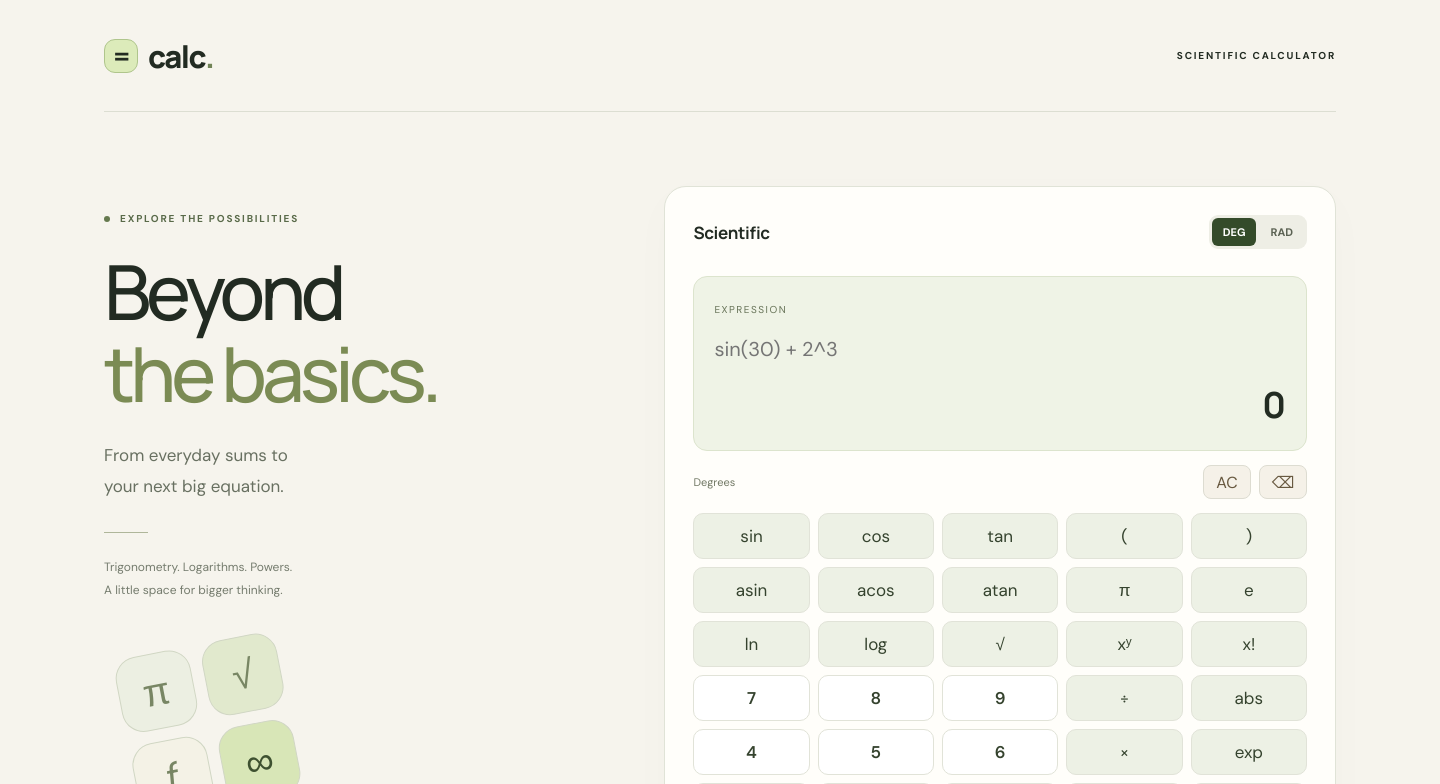
scientific calculator › shows errors and allows retry: {}
The width and height of the screenshot is (1440, 784).
Step 1. Type "1/0" into the field labelled "EXPRESSION" → (1000, 349), box [714,330,1286,368]
(page scrolled)
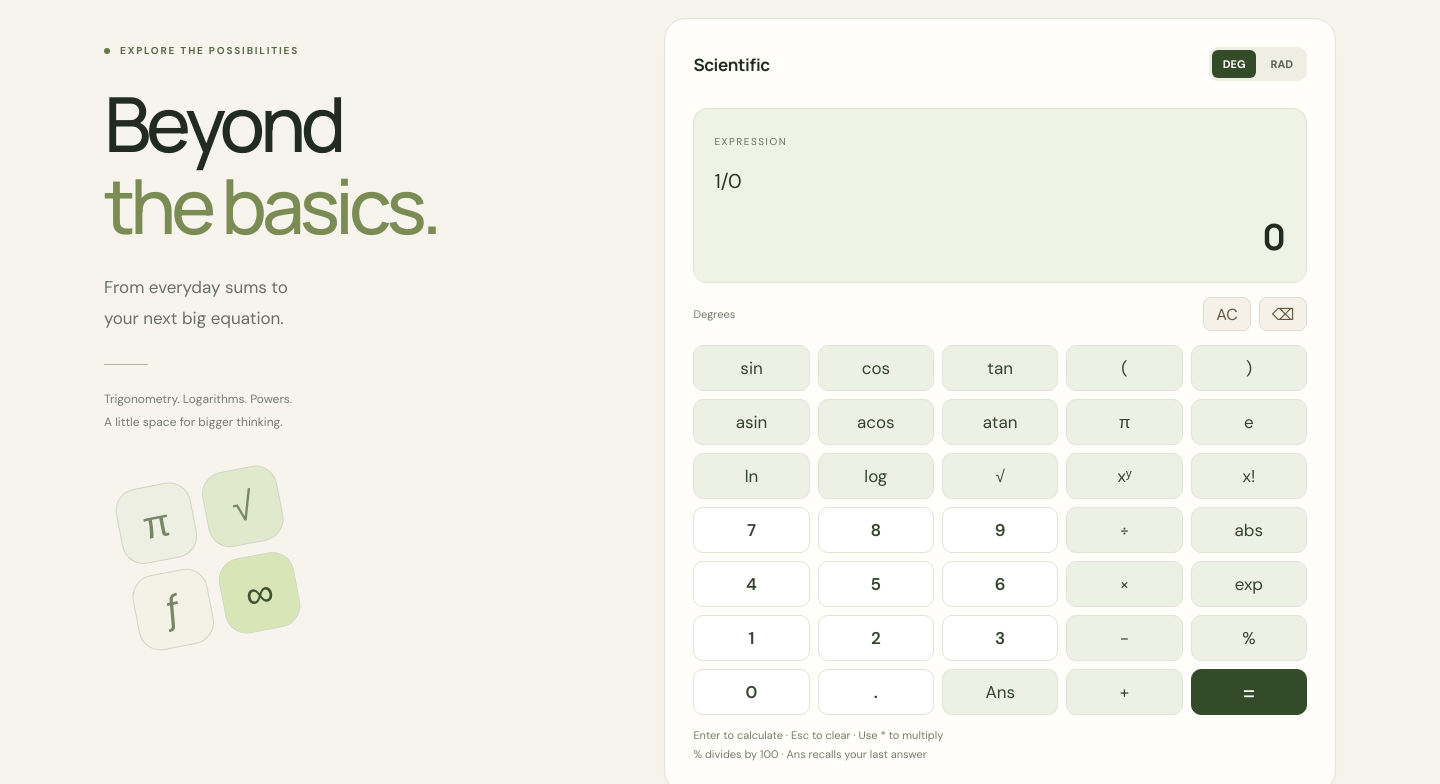
Step 2. Submit the form named "Calculate", box [693,47,1307,763]
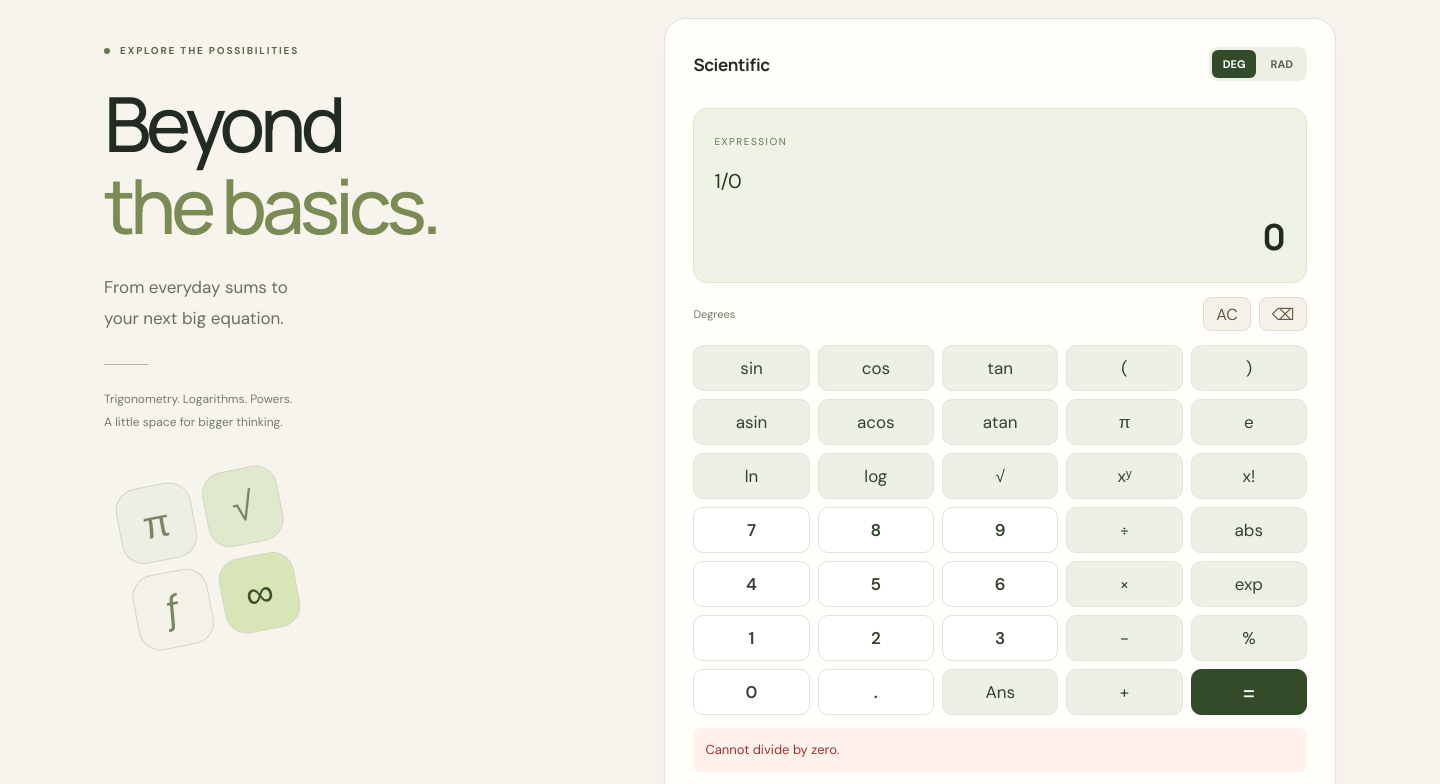
Check: the message "Cannot divide by zero." is shown, box [693,728,1307,772]
Step 3. Replace the text in the field labelled "EXPRESSION" with "1+1" → (1000, 181), box [714,162,1286,200]
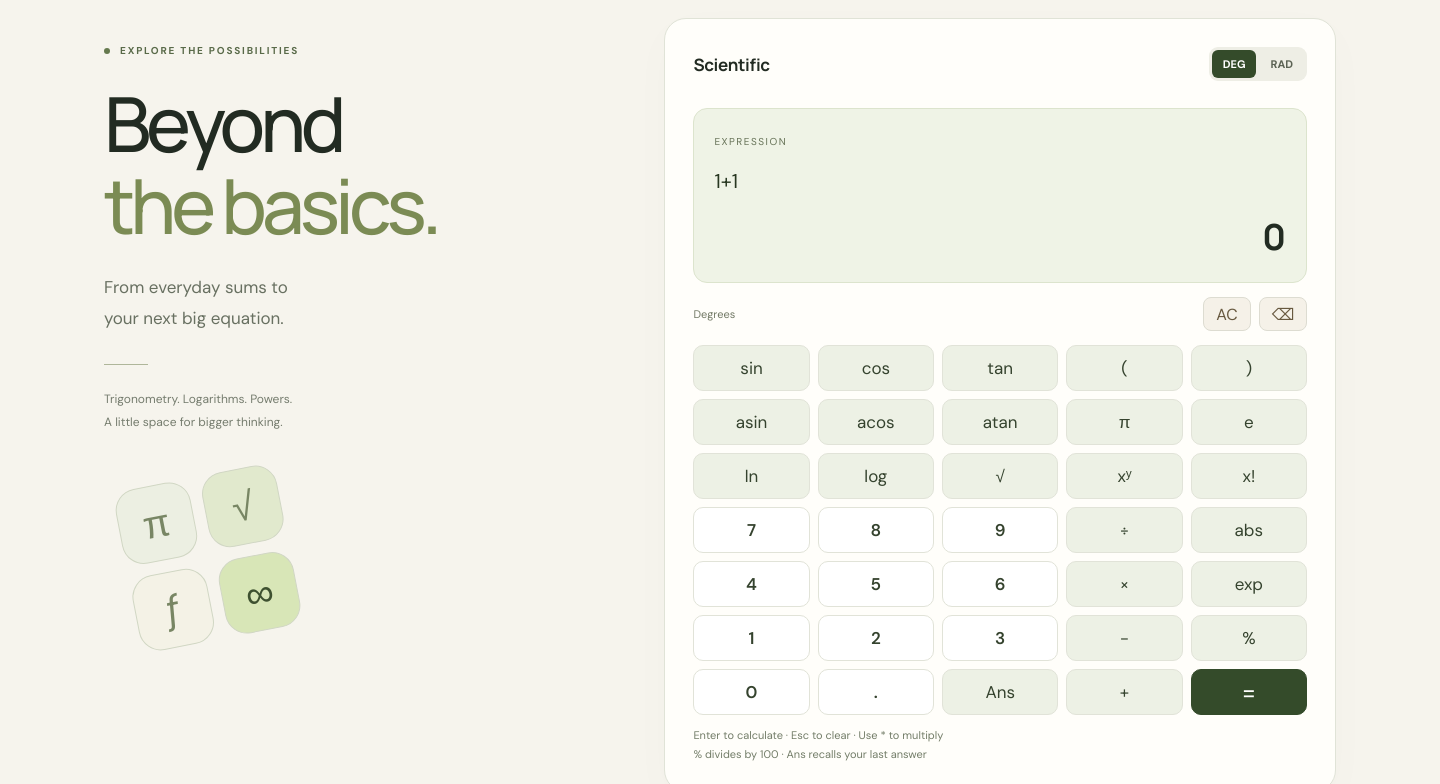
Step 4. Submit the form named "Calculate", box [693,47,1307,763]
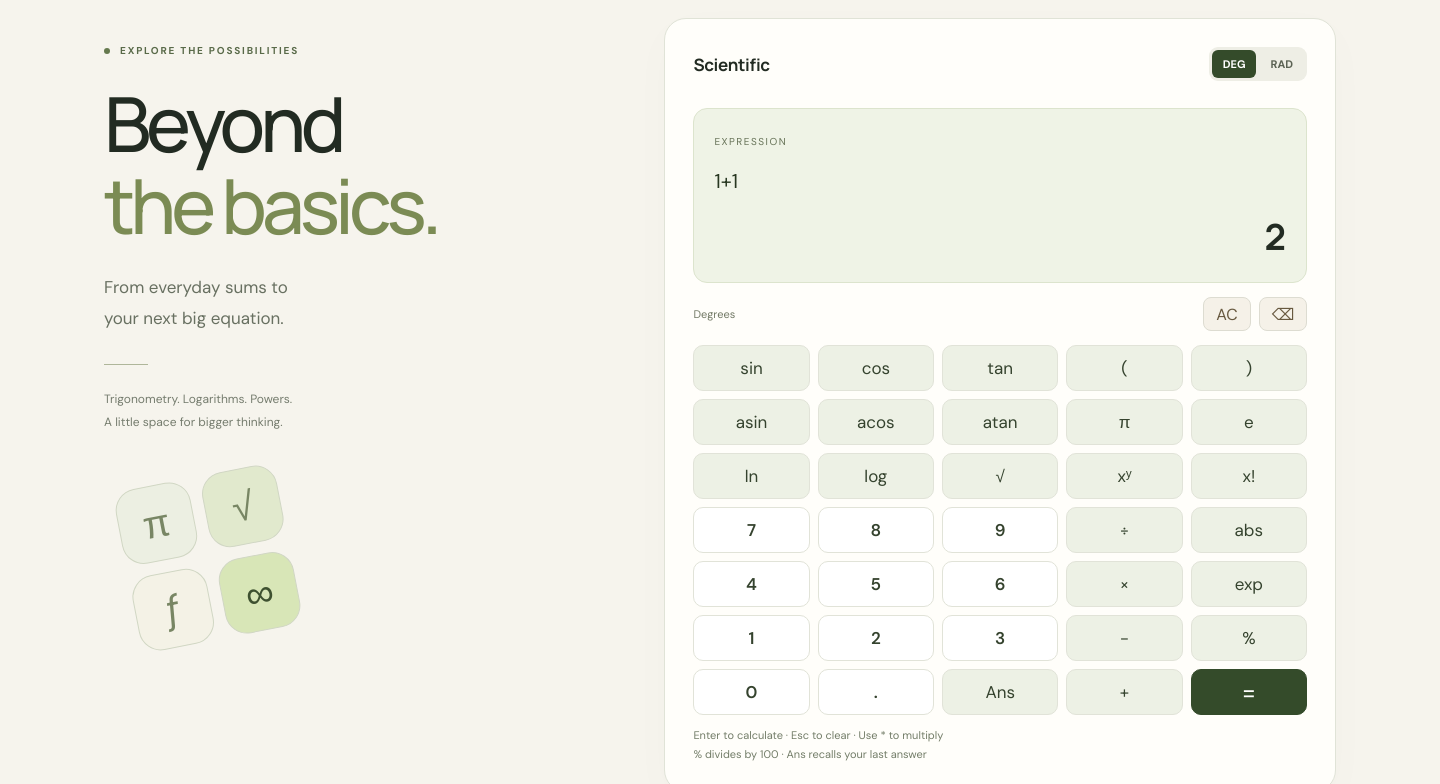
Check: the message reads "2", box [1264,212,1286,261]
